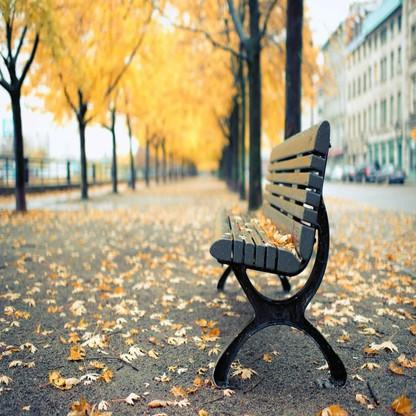obstacle: (197, 129, 362, 399)
